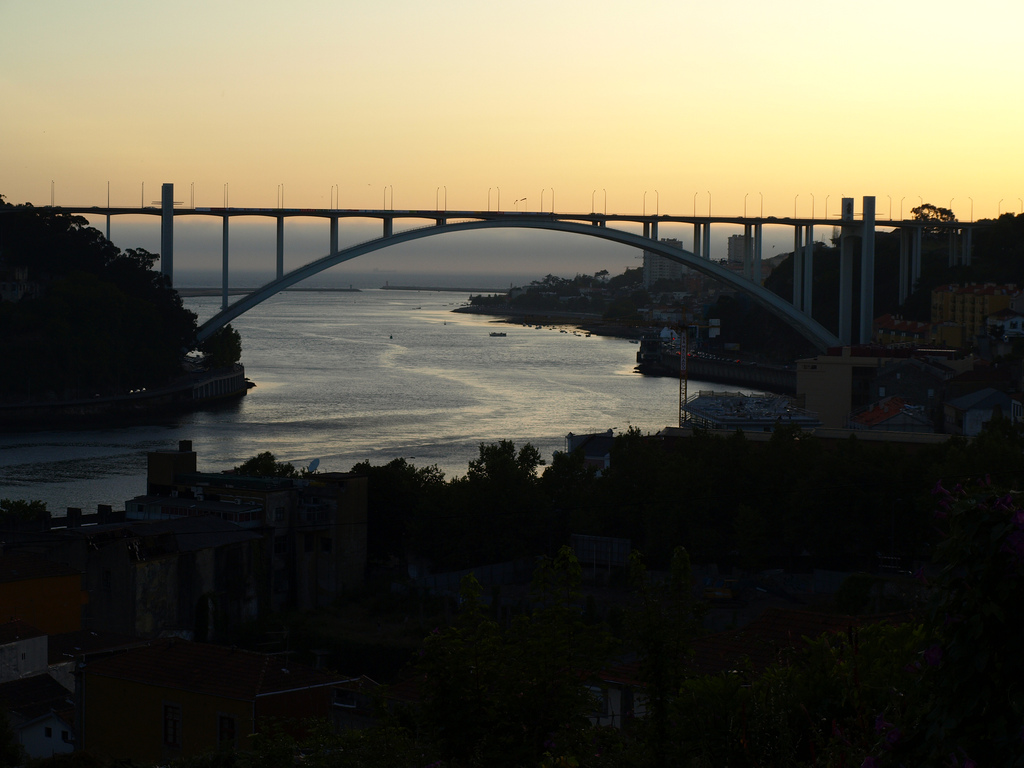arrabida: (51, 180, 991, 361)
